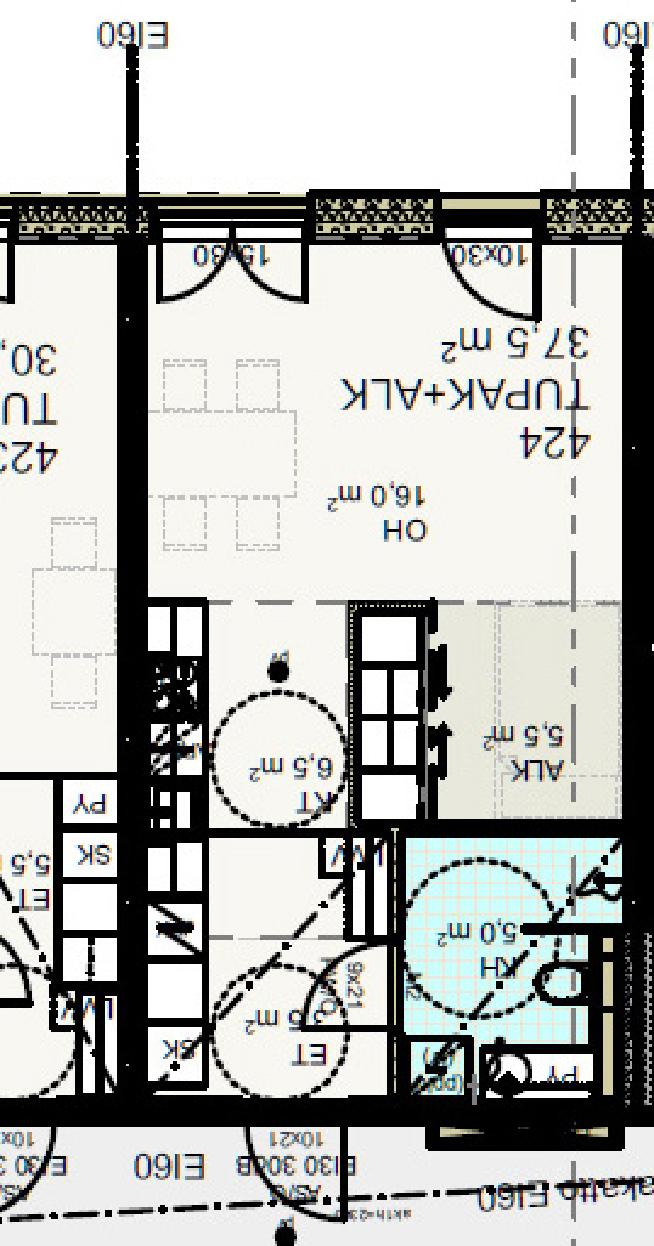door: (159, 220, 314, 308), (243, 1126, 362, 1233), (450, 215, 548, 331)
zone: (146, 226, 620, 606), (135, 36, 632, 188), (141, 842, 390, 1095), (139, 602, 421, 824), (1, 236, 113, 772), (398, 834, 627, 1095), (427, 603, 630, 819), (3, 777, 123, 1085)
